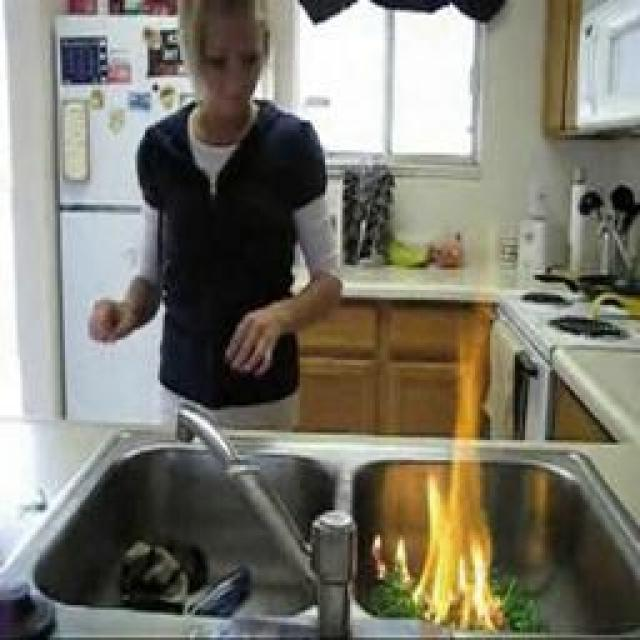Fire: (414, 299, 498, 620), (364, 533, 416, 596)
